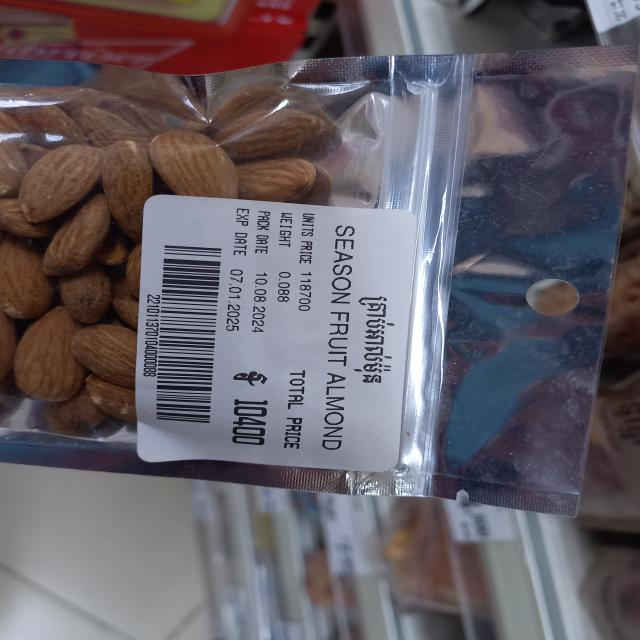193: (273, 268, 293, 308)
363: (220, 266, 247, 335)
530: (246, 268, 271, 335)
541: (224, 394, 273, 452)
556: (295, 269, 314, 313)
663: (140, 292, 161, 380)
Yolov11kh: (350, 291, 401, 391)
